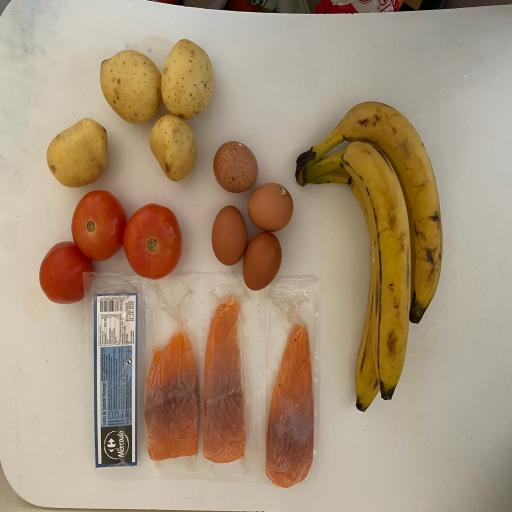banana: (296, 92, 450, 417), (296, 95, 444, 327), (295, 138, 413, 405)
egg: (209, 136, 261, 196), (208, 201, 250, 269), (240, 229, 284, 293), (246, 180, 296, 234)
potato: (97, 45, 163, 128), (158, 33, 217, 122), (44, 115, 112, 190), (147, 111, 200, 184)
salmon: (262, 319, 318, 489), (142, 325, 202, 465), (200, 293, 248, 468)
tomato: (121, 200, 186, 282), (37, 238, 99, 308), (70, 188, 127, 264)
